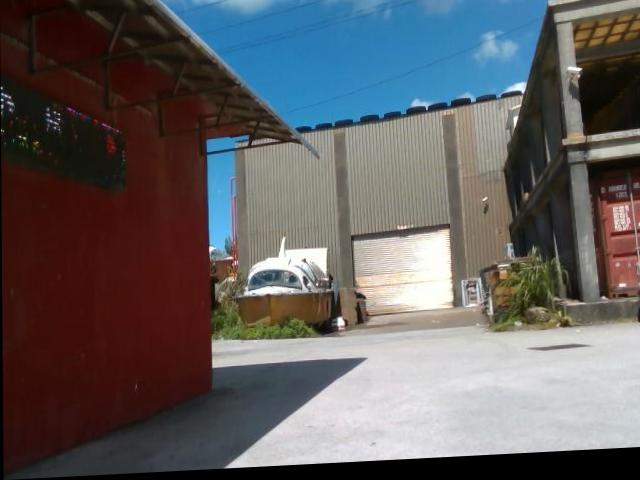pollute: (460, 246, 533, 333), (331, 290, 365, 335)
